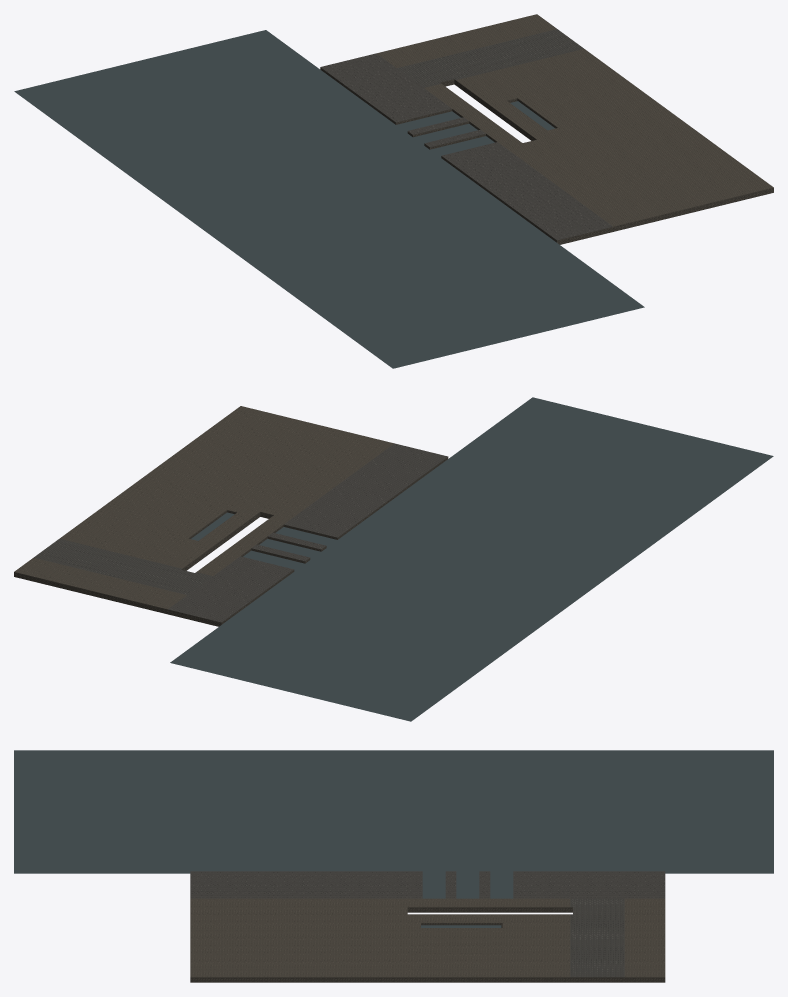
Rendered from B_ground.glb.
3 renders of one model, top to bottom at view 1: azimuth 30°, elevation 25°; view 2: azimuth 150°, elevation 25°; view 3: azimuth 270°, elevation 25°, orthographic. The views are drawn at different scales.
Parts seen in each view (by area): view 1: B_ground; view 2: B_ground; view 3: B_ground.
Part boxes in pixels (bbox=[...]): B_ground: bbox=[14, 14, 773, 368]; B_ground: bbox=[14, 397, 773, 721]; B_ground: bbox=[14, 750, 773, 982].
Size of the model in its own units: 800 by 8.5 by 1120.
5 materials, 4 textured.
